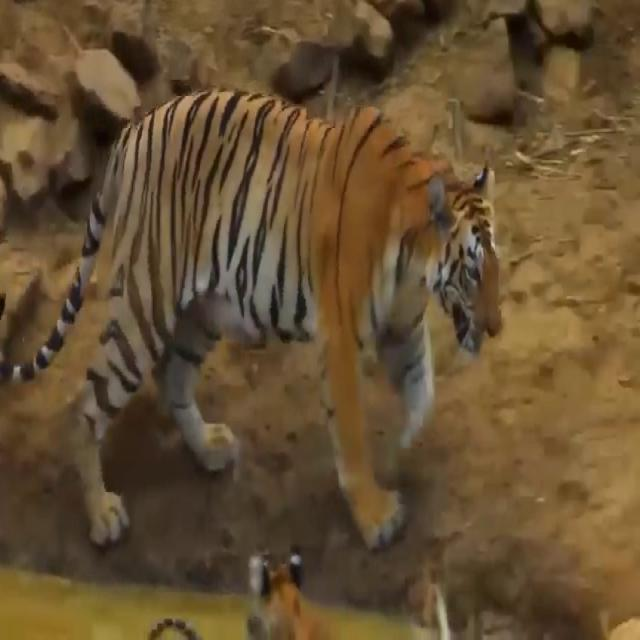tiger: (0, 82, 505, 555)
